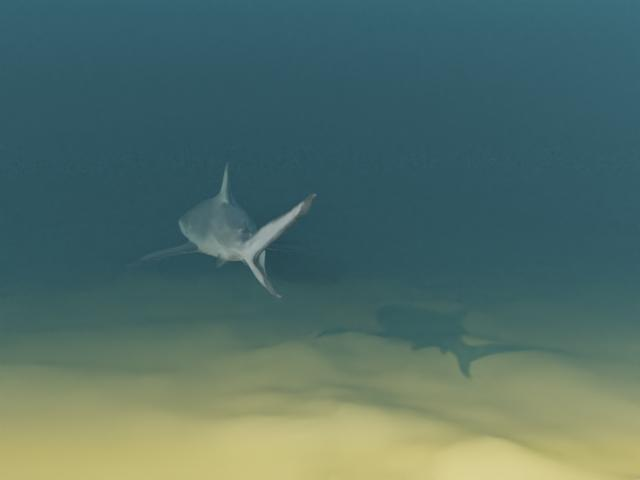Carribean Shark.001: (126, 161, 319, 298)
